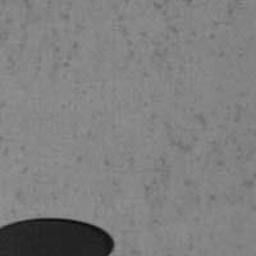Punching: (0, 218, 116, 256)
